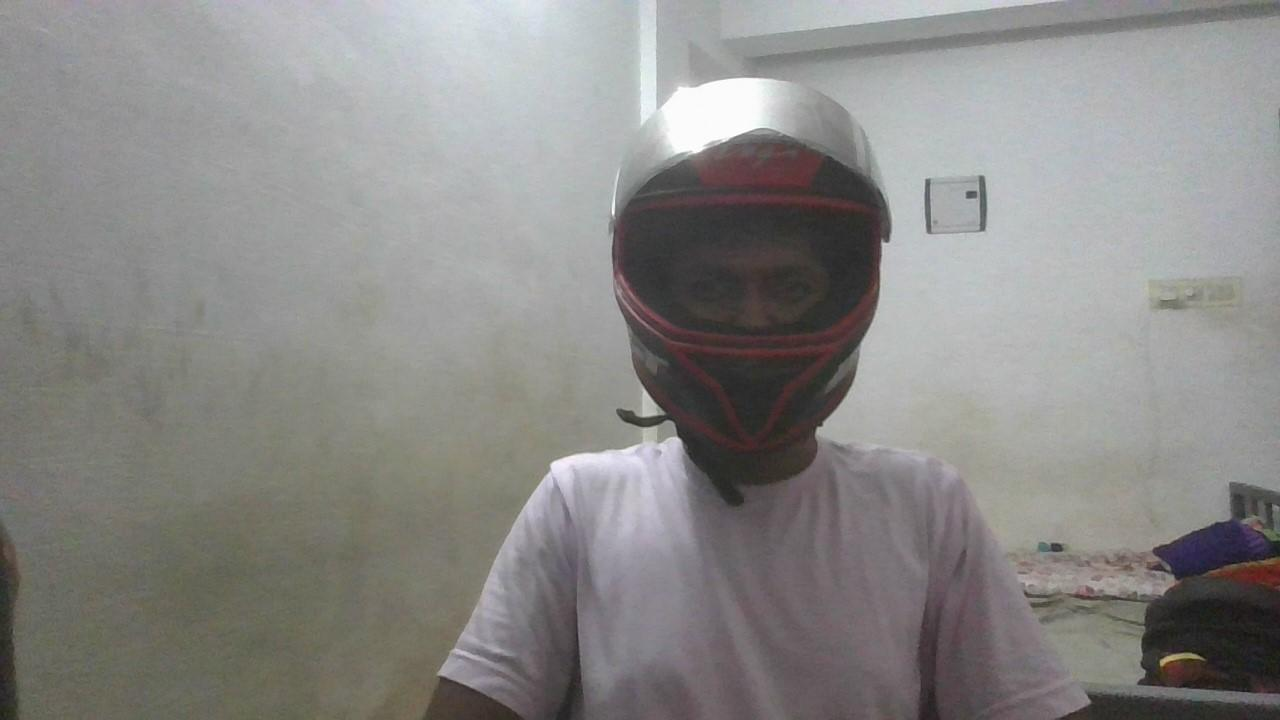helmet: (608, 75, 893, 461)
